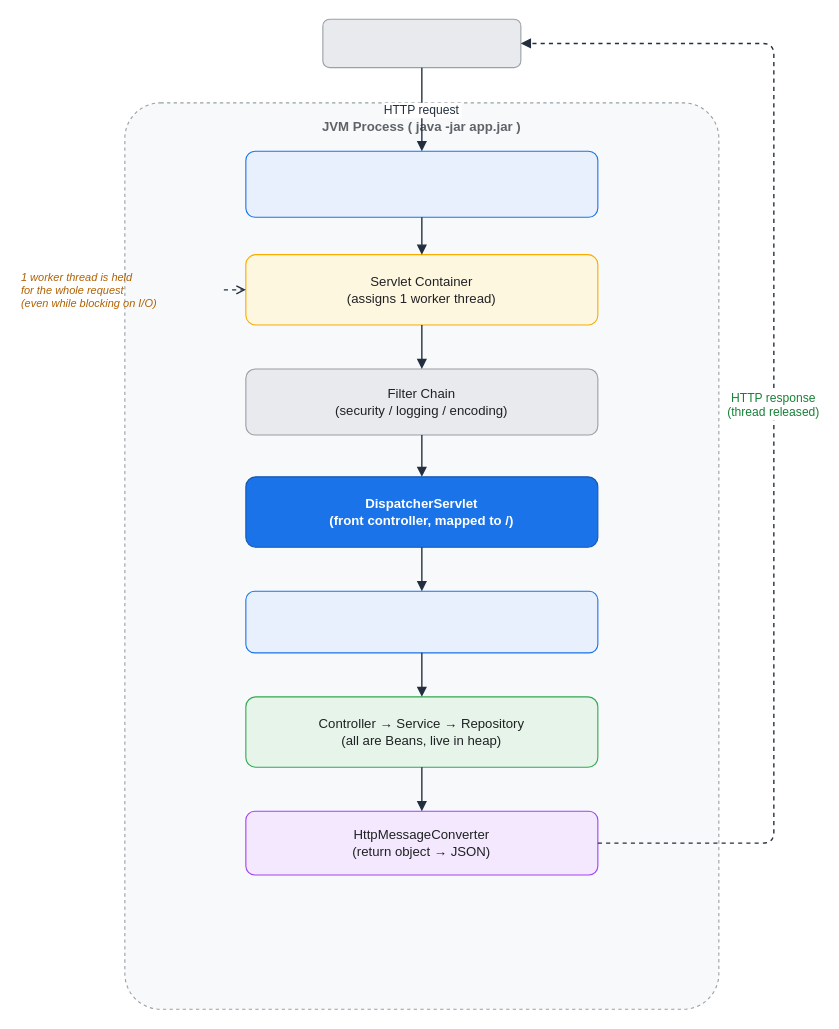
This 839x1029 diagram has some shape labels left out. Each missing label, with the centre of its shape:
Client: pixel 421 43
Embedded Tomcat Connector (:8080): pixel 421 183
HandlerMapping → HandlerAdapter (find & invoke controller method): pixel 421 621
